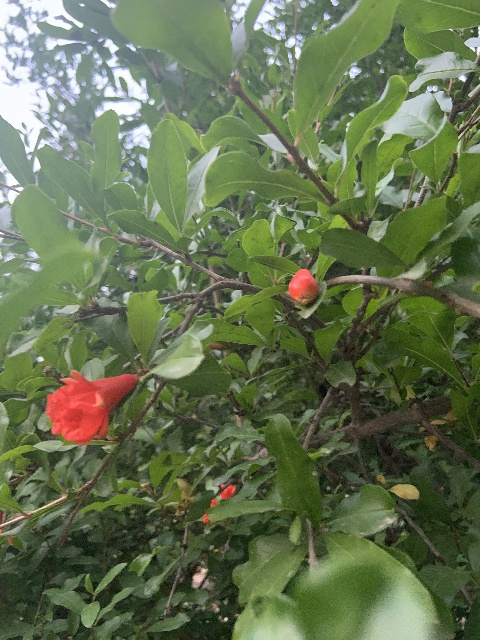bud: (288, 268, 318, 305)
flower: (46, 369, 137, 444)
mid-growth: (166, 478, 194, 516)
